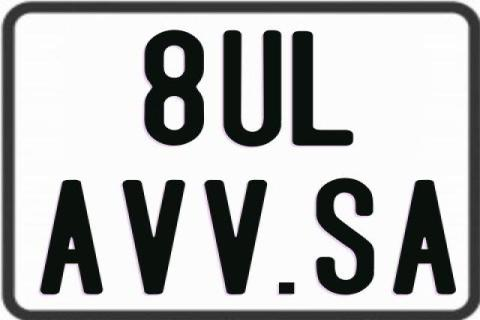0: (143, 27, 203, 148)
A: (39, 178, 107, 294), (390, 180, 455, 296)
L: (290, 30, 355, 146)
S: (316, 178, 377, 296)
U: (222, 30, 281, 146)
V: (120, 179, 188, 293), (203, 178, 270, 292)
